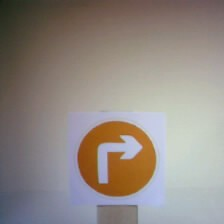right: (66, 111, 166, 203)
